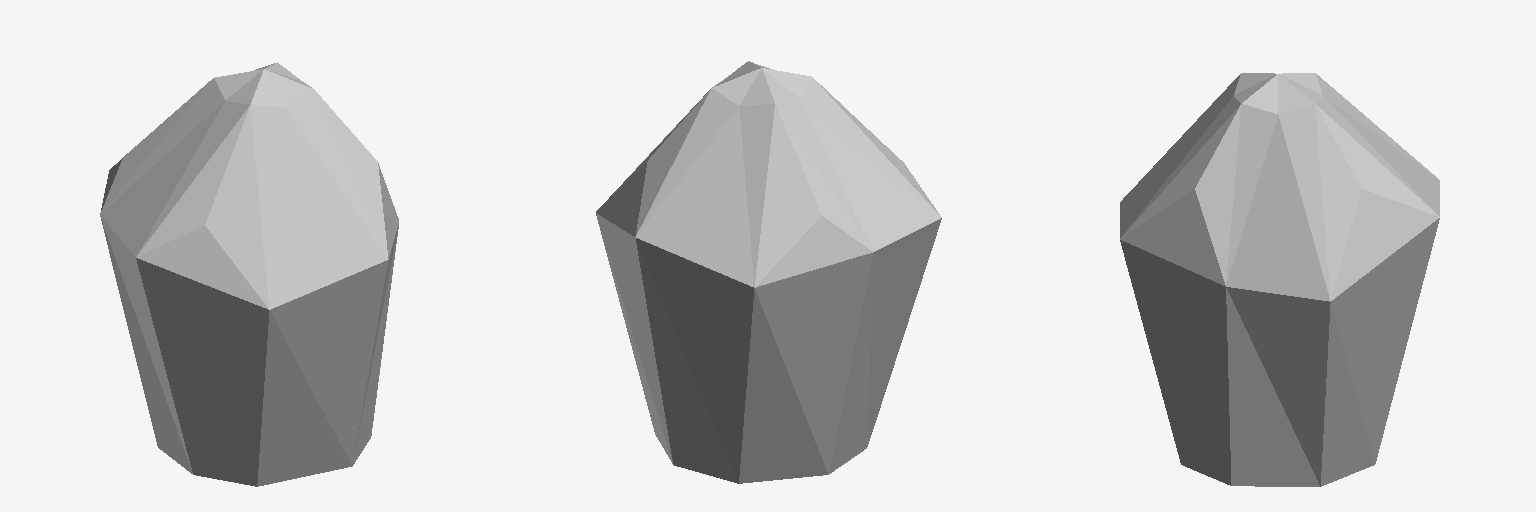
Rendered from crystalProp-1.obj.
The picture shows the model from 3 angles: view 1: azimuth 30°, elevation 25°; view 2: azimuth 150°, elevation 25°; view 3: azimuth 270°, elevation 25°; orthographic projection.
Parts seen in each view (by area): view 1: Crystal-4.001_Cone.000; view 2: Crystal-4.001_Cone.000; view 3: Crystal-4.001_Cone.000.
Boxes of the visible parts, x1=… form: Crystal-4.001_Cone.000: x1=100, y1=62, x2=398, y2=486; Crystal-4.001_Cone.000: x1=596, y1=61, x2=941, y2=483; Crystal-4.001_Cone.000: x1=1120, y1=73, x2=1439, y2=486.
Size of the model in its own units: 0.868 by 1.05 by 0.819.